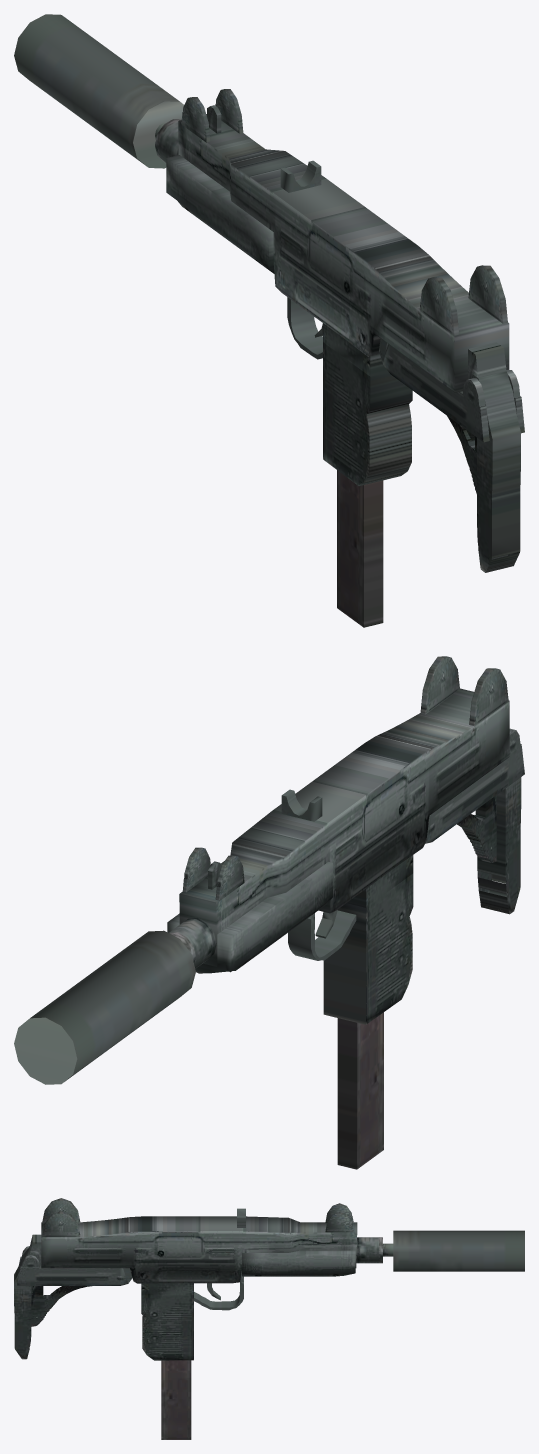
Rendered from uzi_ads.fbx.
The picture shows the model from 3 angles, top to bottom: view 1: azimuth 30°, elevation 25°; view 2: azimuth 150°, elevation 25°; view 3: azimuth 270°, elevation 25°; orthographic projection. The views are drawn at different scales.
Parts seen in each view (by area): view 1: uzi_body, uzi_silencer, uzi_grip, uzi_pad, uzi_clip, uzi_frontgrip, uzi_stocksupport, uzi_frontsight, uzi_trigger, uzi_barrel, uzi_bolt, uzi_stockframe; view 2: uzi_body, uzi_silencer, uzi_grip, uzi_clip, uzi_frontgrip, uzi_pad, uzi_stocksupport, uzi_trigger, uzi_frontsight, uzi_stockframe, uzi_barrel, uzi_bolt; view 3: uzi_body, uzi_silencer, uzi_grip, uzi_frontgrip, uzi_clip, uzi_stocksupport, uzi_pad, uzi_stockframe, uzi_barrel, uzi_frontsight, uzi_trigger.
Part boxes in pixels (left/top/right/bottom): uzi_body: left=178, top=114, right=509, bottom=392; uzi_silencer: left=14, top=14, right=183, bottom=168; uzi_grip: left=323, top=323, right=412, bottom=486; uzi_pad: left=468, top=342, right=520, bottom=572; uzi_clip: left=337, top=470, right=383, bottom=627; uzi_frontgrip: left=166, top=155, right=274, bottom=273; uzi_stocksupport: left=379, top=339, right=524, bottom=442; uzi_frontsight: left=181, top=89, right=243, bottom=142; uzi_trigger: left=287, top=297, right=322, bottom=359; uzi_barrel: left=155, top=119, right=181, bottom=162; uzi_bolt: left=280, top=160, right=321, bottom=192; uzi_stockframe: left=447, top=416, right=476, bottom=493; uzi_body: left=179, top=656, right=509, bottom=966; uzi_silencer: left=14, top=930, right=195, bottom=1084; uzi_grip: left=323, top=855, right=413, bottom=1024; uzi_clip: left=337, top=1012, right=383, bottom=1169; uzi_frontgrip: left=167, top=861, right=332, bottom=973; uzi_pad: left=477, top=777, right=521, bottom=914; uzi_stocksupport: left=425, top=728, right=524, bottom=843; uzi_trigger: left=288, top=910, right=356, bottom=960; uzi_frontsight: left=182, top=847, right=244, bottom=901; uzi_stockframe: left=457, top=795, right=496, bottom=862; uzi_barrel: left=169, top=917, right=216, bottom=968; uzi_bolt: left=281, top=789, right=322, bottom=821; uzi_body: left=41, top=1198, right=357, bottom=1283; uzi_silencer: left=393, top=1230, right=524, bottom=1271; uzi_grip: left=141, top=1283, right=193, bottom=1360; uzi_frontgrip: left=242, top=1250, right=355, bottom=1276; uzi_clip: left=161, top=1360, right=191, bottom=1439; uzi_stocksupport: left=17, top=1246, right=132, bottom=1285; uzi_pad: left=14, top=1234, right=41, bottom=1359; uzi_stockframe: left=31, top=1286, right=91, bottom=1326; uzi_barrel: left=356, top=1237, right=393, bottom=1263; uzi_frontsight: left=325, top=1203, right=353, bottom=1232; uzi_trigger: left=194, top=1271, right=243, bottom=1310.
Bounding box in the file's own units: 2.18 × 13.68 × 27.31.
